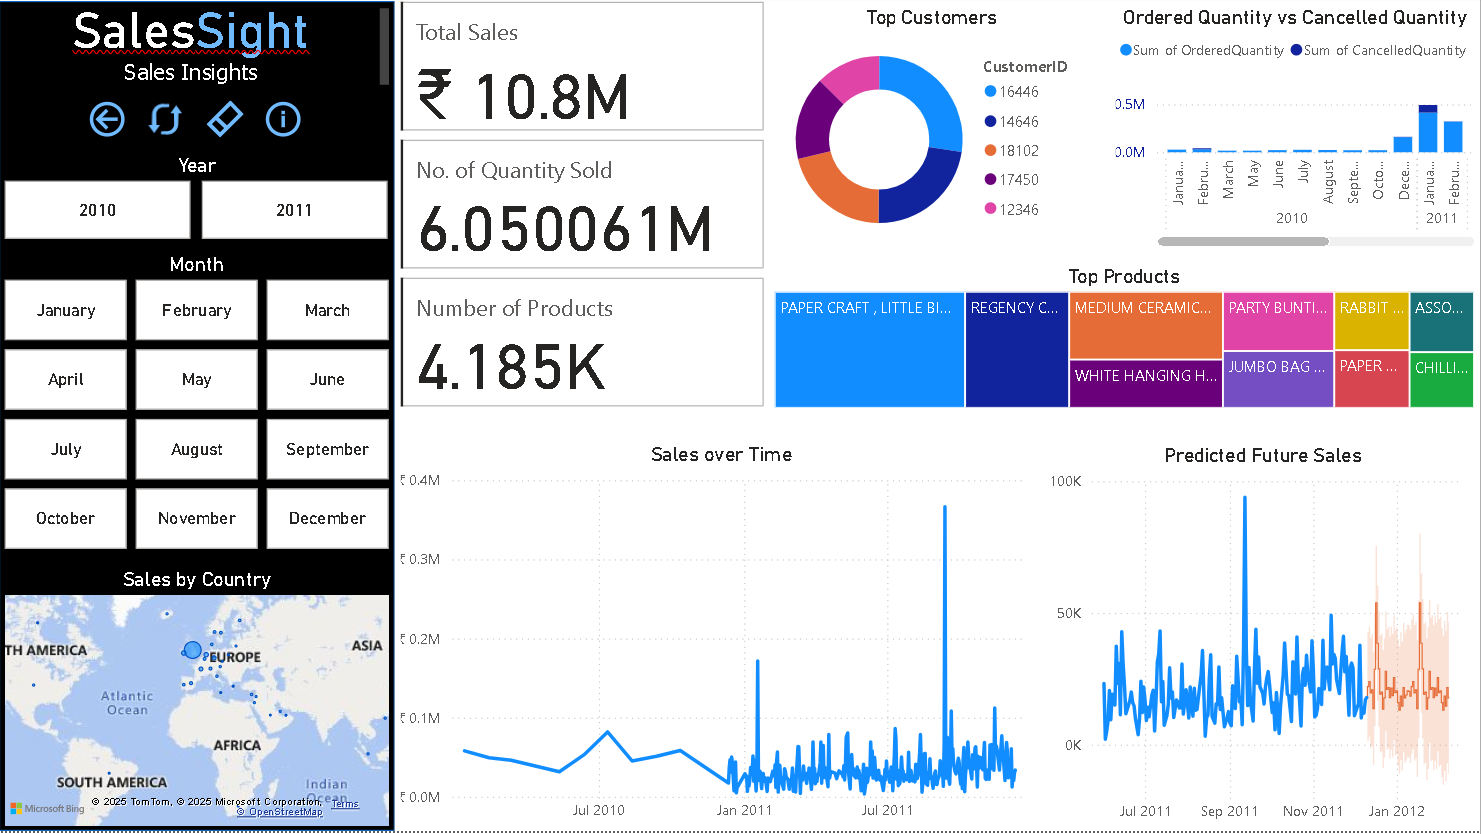

What the dashboard file says about the page in this screenshot:
{"tool":"powerbi","page":{"name":"Sales Insight","canvas":[1280,720],"ordinal":0},"visuals":[{"type":"shape","box":[2.9,3.9,341.4,715.9],"z":0},{"type":"cardVisual","title":"Total Sales","fields":{"Data":["Sum(Sales_data_cleaned.Total)","Sum(Sales_data_cleaned.Quantity)","Count(Sales_data_cleaned.Description)"]},"box":[344,0,323,360],"z":1000},{"type":"lineChart","title":"Sales over Time","fields":{"Y":["Sum(Sales_data_cleaned.Total)"],"Category":["Sales_data_cleaned.InvoiceDate.Variation.Date Hierarchy.Year","Sales_data_cleaned.InvoiceDate.Variation.Date Hierarchy.Quarter","Sales_data_cleaned.InvoiceDate.Variation.Date Hierarchy.Month","Sales_data_cleaned.InvoiceDate.Variation.Date Hierarchy.Day"]},"box":[344,385,563,335],"z":2000},{"type":"map","title":"Sales by Country","fields":{"Category":["Sales_data_cleaned.Country"],"Size":["Sum(Sales_data_cleaned.Total)"]},"box":[2.9,492.2,341.4,227.6],"z":3000},{"type":"treemap","title":"Top Products","fields":{"Group":["Sales_data_cleaned.Description"],"Values":["Sum(Sales_data_cleaned.Total)"]},"box":[667,231,613,129],"z":4000},{"type":"donutChart","title":"Top Customers","fields":{"Category":["Sales_data_cleaned.CustomerID"],"Y":["Sum(Sales_data_cleaned.Total)"]},"box":[667,8,281,213],"z":5000},{"type":"columnChart","title":"Ordered Quantity vs Cancelled Quantity","fields":{"Category":["Sales_data_cleaned.InvoiceDate.Variation.Date Hierarchy.Year","Sales_data_cleaned.InvoiceDate.Variation.Date Hierarchy.Month"],"Y":["Sum(Sales_data_cleaned.OrderedQuantity)","Sum(Sales_data_cleaned.CancelledQuantity)"]},"box":[961,8,319,213],"z":6000},{"type":"lineChart","title":"Predicted Future Sales","fields":{"Y":["Sum(Sales_data_cleaned.Forecast)"],"Category":["Sales_data_cleaned.InvoiceDate.Variation.Date Hierarchy.Year","Sales_data_cleaned.InvoiceDate.Variation.Date Hierarchy.Quarter","Sales_data_cleaned.InvoiceDate.Variation.Date Hierarchy.Month","Sales_data_cleaned.InvoiceDate.Variation.Date Hierarchy.Day"]},"box":[905.5,385.2,374.5,334.6],"z":7000},{"type":"advancedSlicerVisual","fields":{"Values":["Sales_data_cleaned.InvoiceDate.Variation.Date Hierarchy.Month"]},"box":[2.9,220.8,341.4,264.6],"z":8000},{"type":"advancedSlicerVisual","fields":{"Values":["Sales_data_cleaned.InvoiceDate.Variation.Date Hierarchy.Year"]},"box":[2.9,135.2,341.4,79.8],"z":9000},{"type":"textbox","box":[0,2.9,344.3,78.8],"z":10000},{"type":"actionButton","box":[125.6,86.6,44,40],"z":11000},{"type":"actionButton","box":[227.6,86.6,41,40],"z":12000},{"type":"actionButton","box":[177.6,86.6,43,40],"z":13000},{"type":"actionButton","box":[75.6,86.6,40,40],"z":14000}]}

Visuals, with their boxes in screenshot pixels (x1, y1, x2, y2), scaled from the page's 1280x720 canvas onto the 1482x834 screenshot:
shape: detection(3, 5, 399, 833)
"Total Sales" cardVisual: detection(398, 0, 772, 417)
"Sales over Time" lineChart: detection(398, 446, 1050, 833)
"Sales by Country" map: detection(3, 570, 399, 833)
"Top Products" treemap: detection(772, 268, 1481, 417)
"Top Customers" donutChart: detection(772, 9, 1098, 256)
"Ordered Quantity vs Cancelled Quantity" columnChart: detection(1113, 9, 1481, 256)
"Predicted Future Sales" lineChart: detection(1048, 446, 1481, 833)
advancedSlicerVisual - Sales_data_cleaned.InvoiceDate.Variation.Date Hierarchy.Month: detection(3, 256, 399, 562)
advancedSlicerVisual - Sales_data_cleaned.InvoiceDate.Variation.Date Hierarchy.Year: detection(3, 157, 399, 249)
textbox: detection(0, 3, 399, 95)
actionButton: detection(145, 100, 196, 147)
actionButton: detection(264, 100, 311, 147)
actionButton: detection(206, 100, 255, 147)
actionButton: detection(88, 100, 134, 147)
